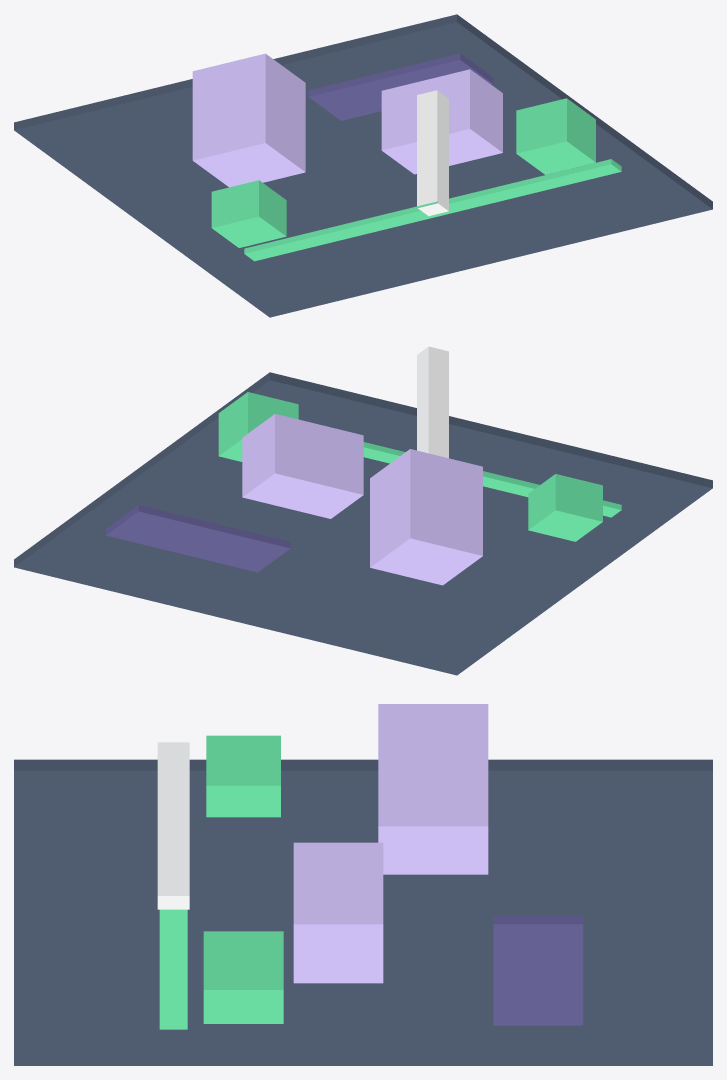
File: research-lab.glb
3 renders of one model, top to bottom at view 1: azimuth 30°, elevation 25°; view 2: azimuth 150°, elevation 25°; view 3: azimuth 270°, elevation 25°, orthographic. The views are drawn at different scales.
Visible parts, largest first — view 1: environment floor, main structure, secondary structure, route layer, context block b, environment plane, context block a, observation marker; view 2: environment floor, main structure, secondary structure, environment plane, context block a, observation marker, context block b, route layer; view 3: environment floor, main structure, secondary structure, environment plane, context block b, context block a, observation marker, route layer.
Part boxes in pixels (x1,y1,x2,y2): environment floor: [14, 14, 712, 317]; main structure: [192, 53, 305, 187]; secondary structure: [381, 69, 502, 174]; route layer: [244, 159, 621, 261]; context block b: [516, 98, 595, 174]; environment plane: [308, 53, 493, 120]; context block a: [211, 180, 286, 247]; observation marker: [417, 90, 448, 216]; environment floor: [14, 372, 712, 675]; main structure: [370, 449, 482, 585]; secondary structure: [242, 414, 363, 518]; environment plane: [105, 505, 290, 572]; context block a: [528, 474, 602, 541]; observation marker: [417, 346, 448, 458]; context block b: [218, 392, 298, 461]; route layer: [363, 442, 621, 517]; environment floor: [14, 759, 712, 1065]; main structure: [378, 704, 488, 874]; secondary structure: [293, 842, 383, 983]; environment plane: [493, 915, 583, 1025]; context block b: [203, 931, 283, 1023]; context block a: [206, 735, 280, 817]; observation marker: [157, 742, 189, 909]; route layer: [159, 909, 187, 1029].
Bounding box in the file's own units: 7 × 1.87 × 7.
